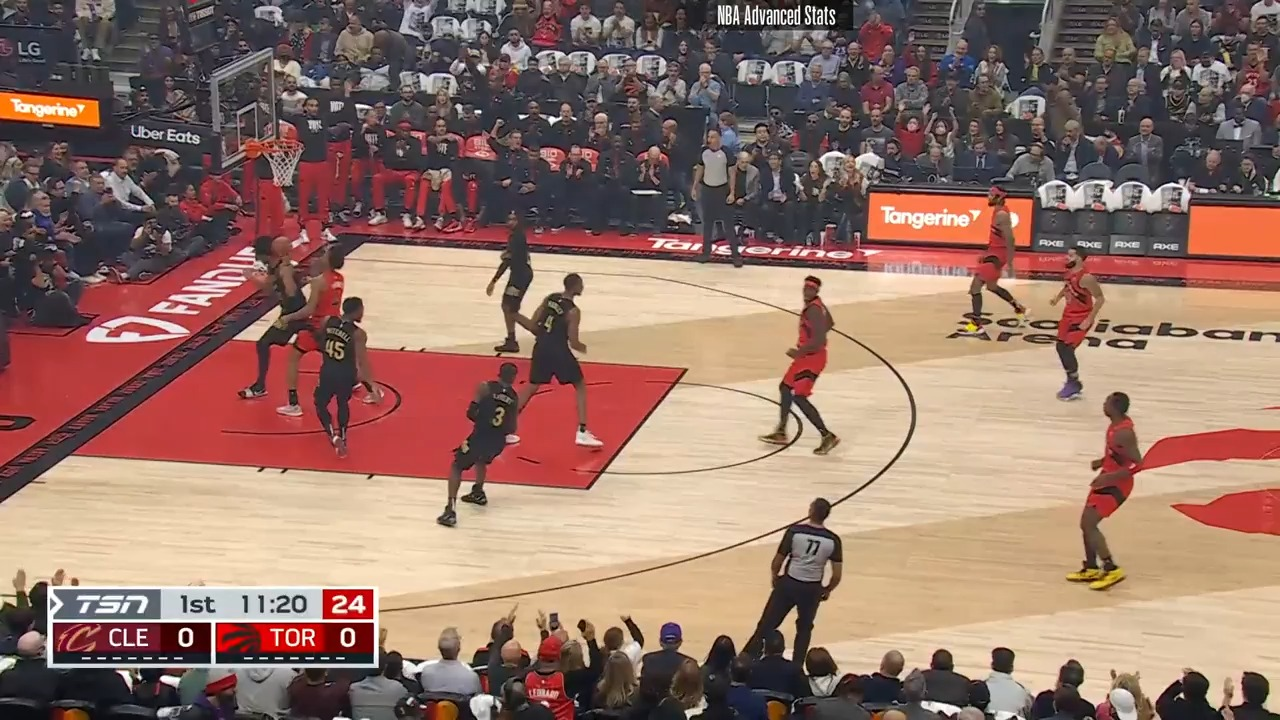net: (243, 135, 306, 189)
player: (1075, 387, 1153, 588), (514, 274, 600, 453), (241, 228, 323, 415), (435, 357, 524, 525), (759, 277, 838, 460), (280, 244, 348, 417), (309, 295, 376, 460), (1048, 244, 1113, 404), (962, 187, 1030, 332), (488, 209, 541, 359)
referee: (743, 494, 846, 663), (687, 129, 737, 264)
